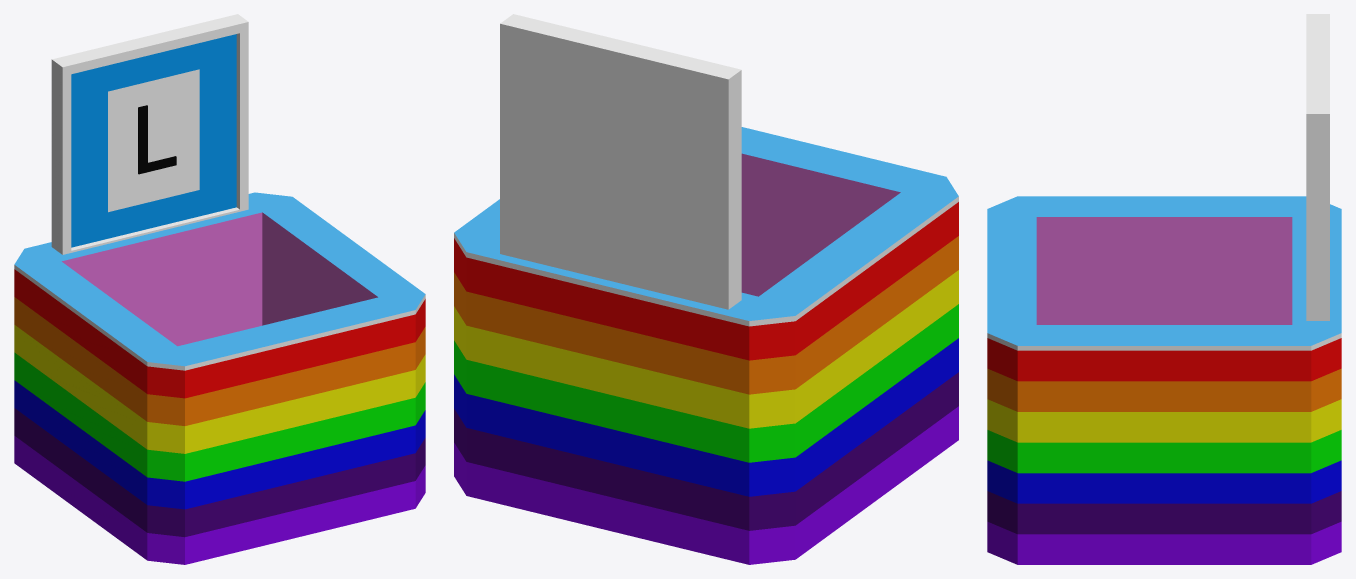
3 views of the same model, side by side, from view 1: azimuth 30°, elevation 25°; view 2: azimuth 150°, elevation 25°; view 3: azimuth 270°, elevation 25° (orthographic). The views are drawn at different scales.
Parts seen in each view (by area): view 1: Cube.001, Text; view 2: Cube.001; view 3: Cube.001.
Part boxes in pixels (x1,y1,x2,y2): Cube.001: (14,14,425,564); Text: (138,105,176,174); Cube.001: (454,14,958,564); Cube.001: (987,14,1341,564).
Bounding box in the file's own units: 383 × 508 × 383.
